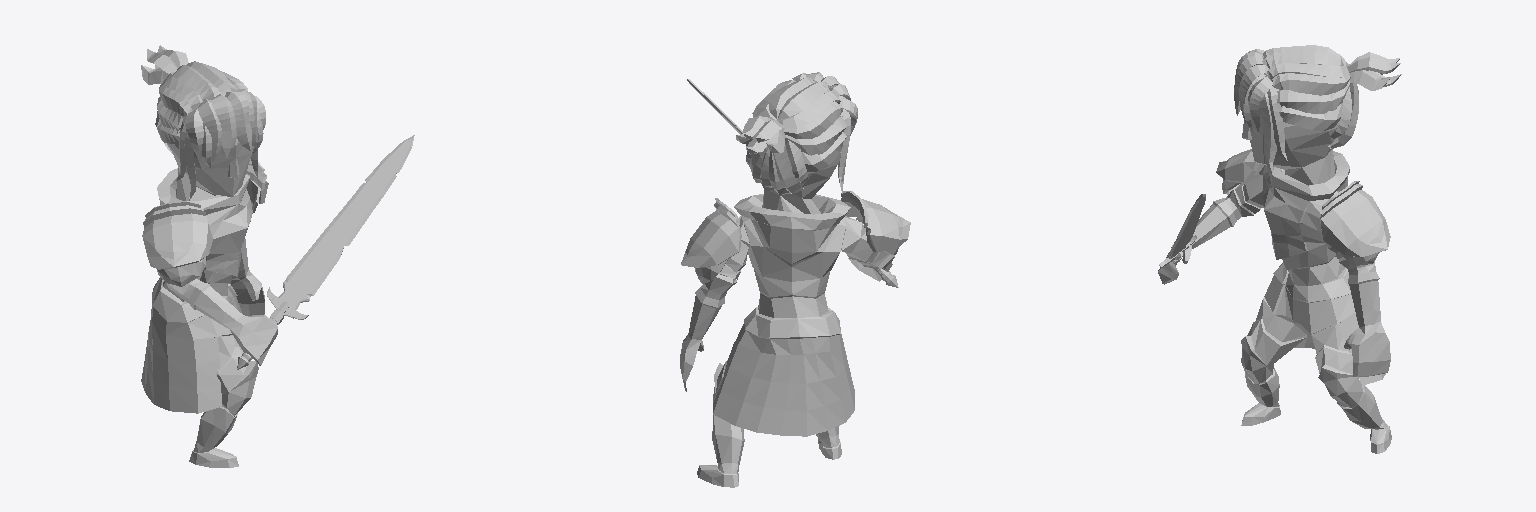
3 renders of one model, left to right at view 1: azimuth 30°, elevation 25°; view 2: azimuth 150°, elevation 25°; view 3: azimuth 270°, elevation 25°, orthographic.
Visible parts, largest first — view 1: Warrior.002__ncl1_29.005, Face__ncl1_29.002, Warrior_Sword_Cylinder.001, Shoulder.R__ncl1_29.001, Shoulder.L__ncl1_29.000; view 2: Warrior.002__ncl1_29.005, Face__ncl1_29.002, Shoulder.L__ncl1_29.000, Shoulder.R__ncl1_29.001, Warrior_Sword_Cylinder.001; view 3: Warrior.002__ncl1_29.005, Face__ncl1_29.002, Shoulder.L__ncl1_29.000, Shoulder.R__ncl1_29.001, Warrior_Sword_Cylinder.001.
Part boxes in pixels (x1,y1,x2,y2): Warrior.002__ncl1_29.005: (141,116,277,467); Face__ncl1_29.002: (141,45,265,200); Warrior_Sword_Cylinder.001: (237,135,414,369); Shoulder.R__ncl1_29.001: (142,201,212,286); Shoulder.L__ncl1_29.000: (246,159,268,213); Warrior.002__ncl1_29.005: (680,150,894,487); Face__ncl1_29.002: (736,72,857,194); Shoulder.L__ncl1_29.000: (681,198,741,283); Shoulder.R__ncl1_29.001: (841,191,910,254); Warrior_Sword_Cylinder.001: (687,79,898,287); Warrior.002__ncl1_29.005: (1158,109,1391,453); Face__ncl1_29.002: (1234,45,1401,175); Shoulder.L__ncl1_29.000: (1320,181,1390,265); Shoulder.R__ncl1_29.001: (1216,149,1263,194); Warrior_Sword_Cylinder.001: (1159,194,1205,267).
Bounding box in the file's own units: 1.87 × 2.79 × 1.65.